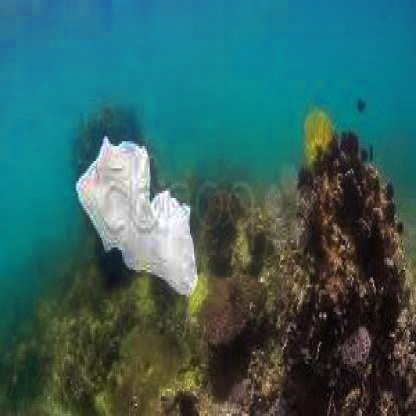pbag: (75, 133, 198, 294)
